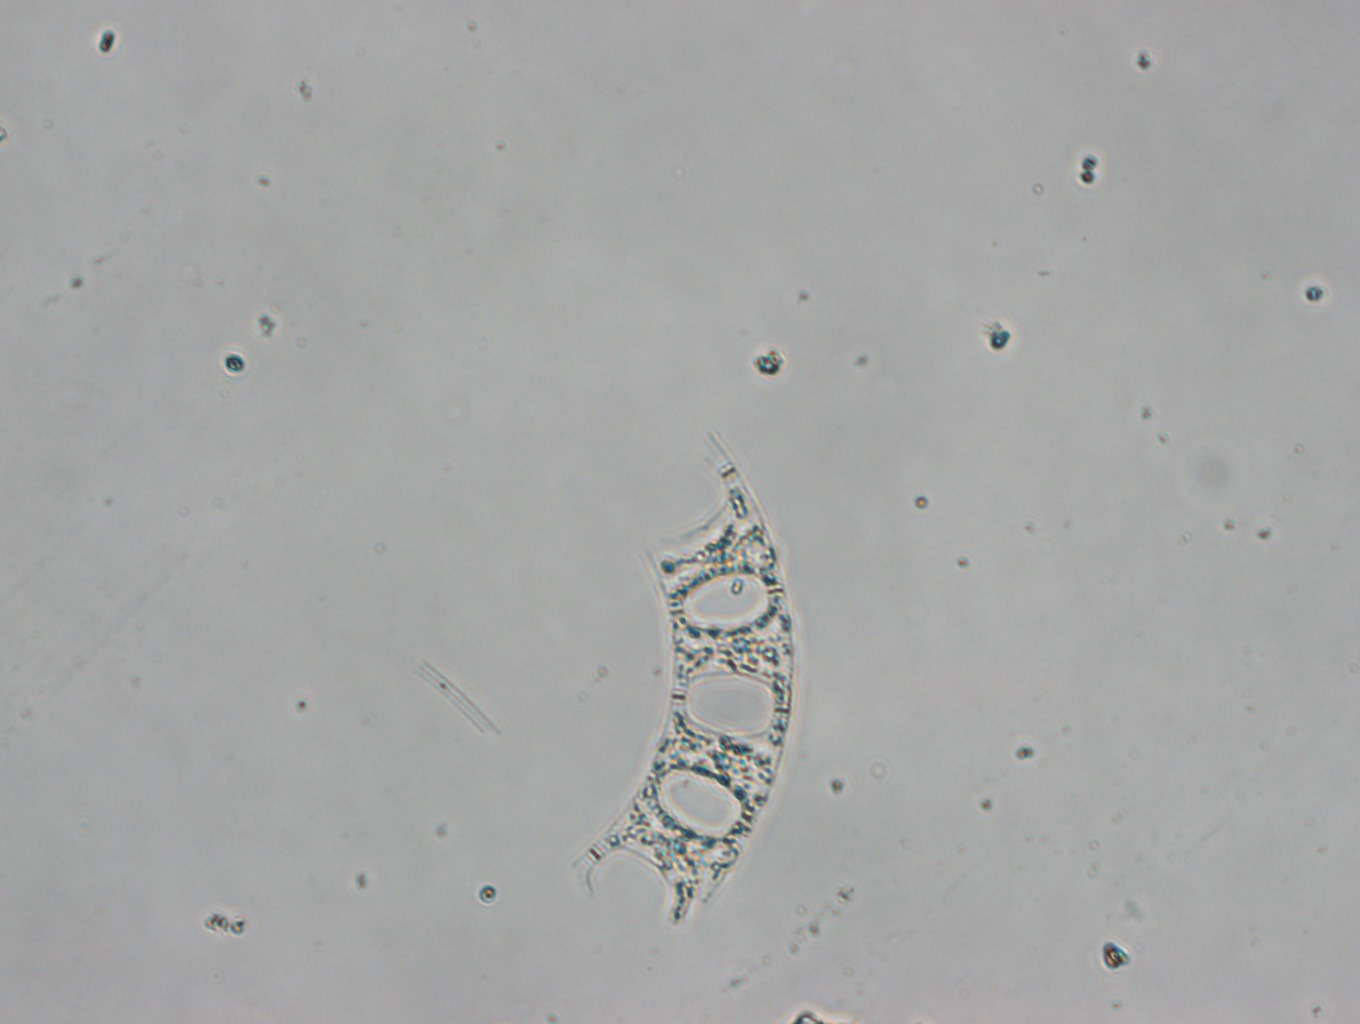eucampia: (569, 431, 796, 930)
